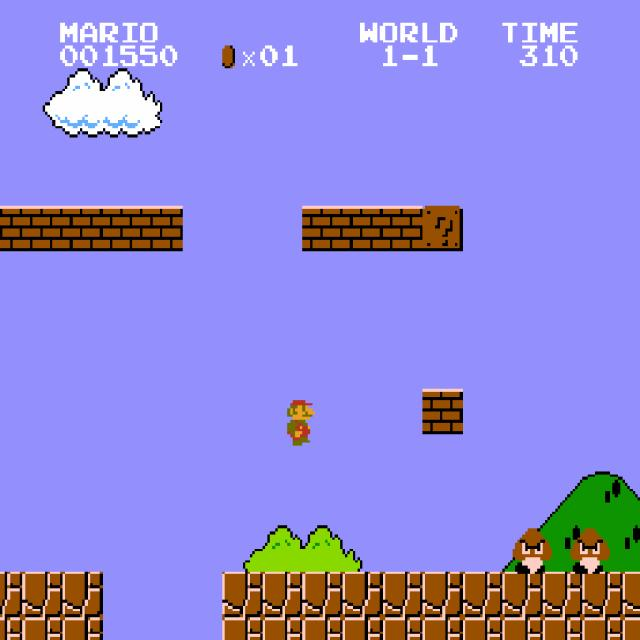brick_block: (22, 206, 63, 251), (62, 206, 103, 251), (102, 206, 143, 251), (142, 206, 183, 251), (302, 206, 343, 251), (342, 206, 383, 251), (382, 206, 423, 251), (422, 389, 463, 434), (0, 206, 22, 251)
goomba: (567, 526, 610, 574), (510, 526, 552, 574)
little_mario: (277, 397, 320, 446)
mystery_block: (422, 206, 463, 251)
undestructible_block: (22, 572, 63, 617), (62, 572, 103, 617), (222, 572, 263, 617), (262, 572, 303, 617), (302, 572, 343, 617), (342, 572, 383, 617), (382, 572, 423, 617), (422, 572, 463, 617), (462, 572, 503, 617), (502, 572, 543, 617), (542, 572, 583, 617), (582, 572, 623, 617), (0, 572, 22, 617), (22, 617, 63, 640), (62, 617, 103, 640), (222, 617, 263, 640), (262, 617, 303, 640), (302, 617, 343, 640), (342, 617, 383, 640), (382, 617, 423, 640), (422, 617, 463, 640), (462, 617, 503, 640), (502, 617, 543, 640), (542, 617, 583, 640), (582, 617, 623, 640), (622, 571, 640, 617), (0, 617, 22, 640), (622, 617, 640, 639)
